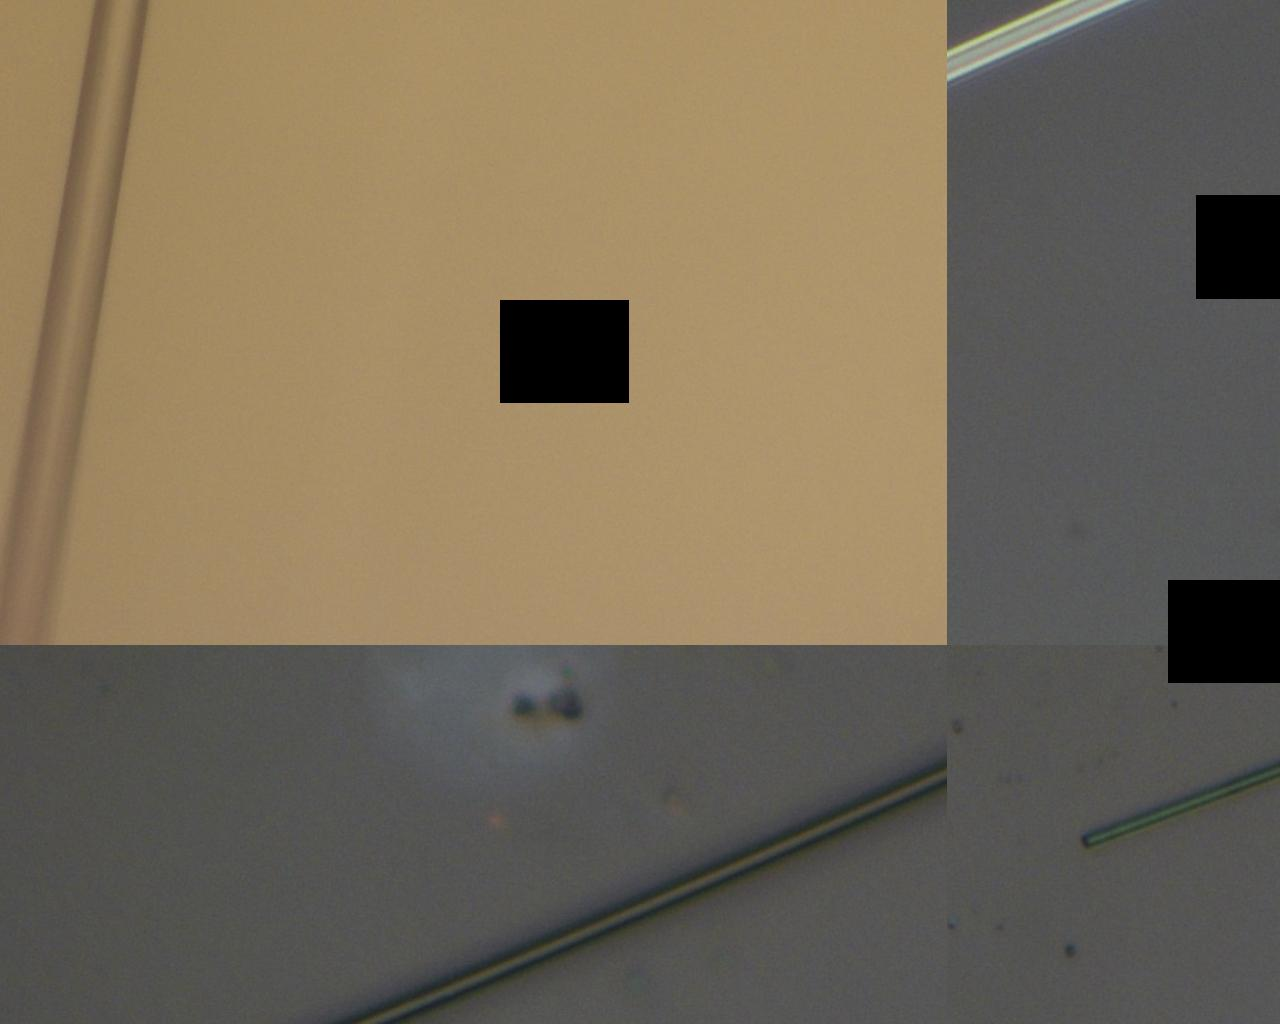fiber: (760, 0, 1163, 573), (750, 573, 1090, 1024)
